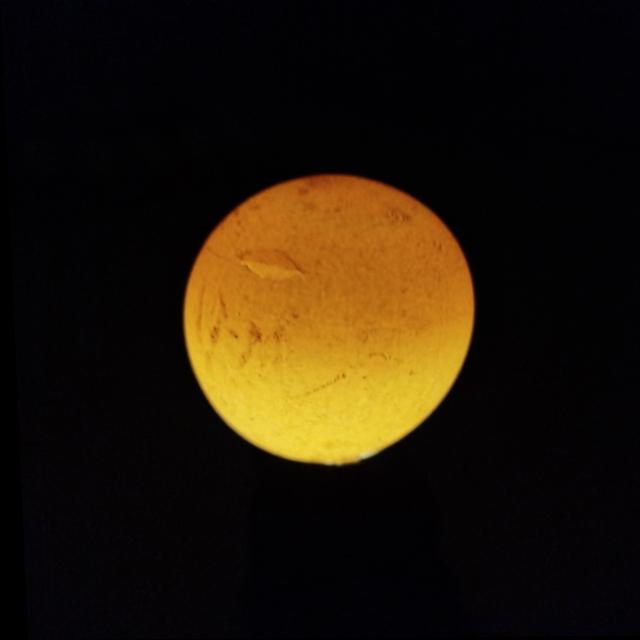Rachadura: (238, 250, 300, 281)
